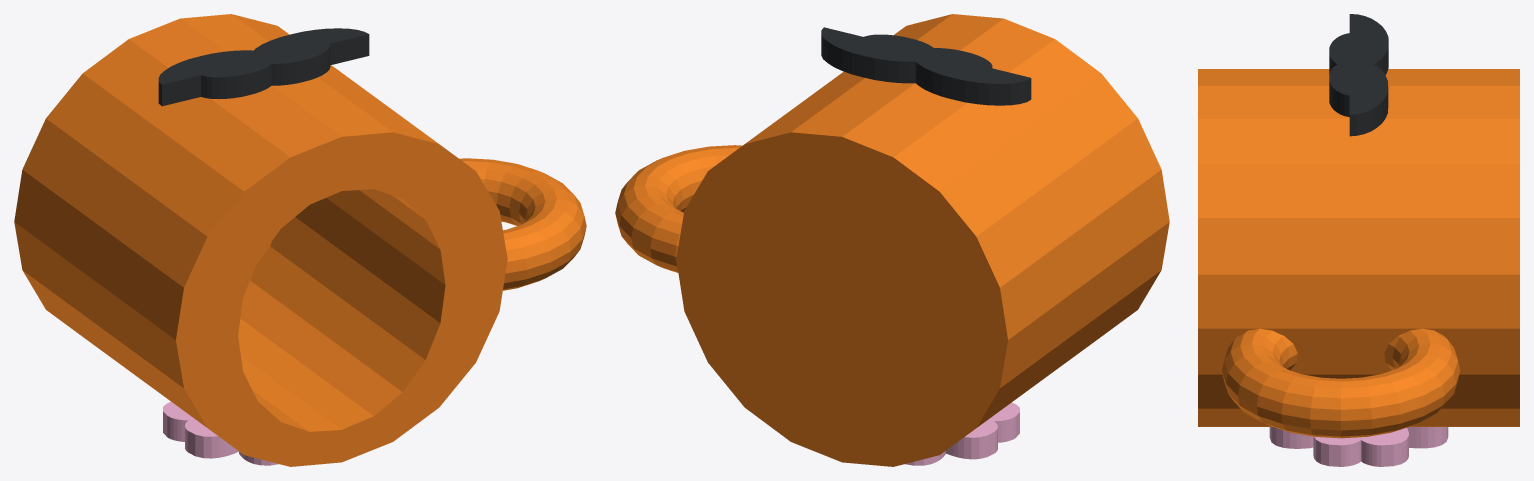
Rendered from tinker.obj.
3 views of the same model, side by side, from view 1: azimuth 30°, elevation 25°; view 2: azimuth 150°, elevation 25°; view 3: azimuth 270°, elevation 25° (orthographic).
Parts seen in each view (by area): view 1: group_0_16089887, group_0_2829873, group_0_15708628; view 2: group_0_16089887, group_0_2829873, group_0_15708628; view 3: group_0_16089887, group_0_2829873, group_0_15708628.
Boxes of the visible parts, x1,y1,x2,y2 form: group_0_16089887: (14, 14, 586, 466); group_0_2829873: (158, 28, 369, 106); group_0_15708628: (163, 402, 278, 465); group_0_16089887: (615, 14, 1169, 466); group_0_2829873: (821, 27, 1031, 105); group_0_15708628: (905, 402, 1019, 465); group_0_16089887: (1198, 69, 1519, 438); group_0_2829873: (1329, 14, 1388, 136); group_0_15708628: (1269, 427, 1448, 466).
Bounding box in the file's own units: 45 × 34 × 27.
